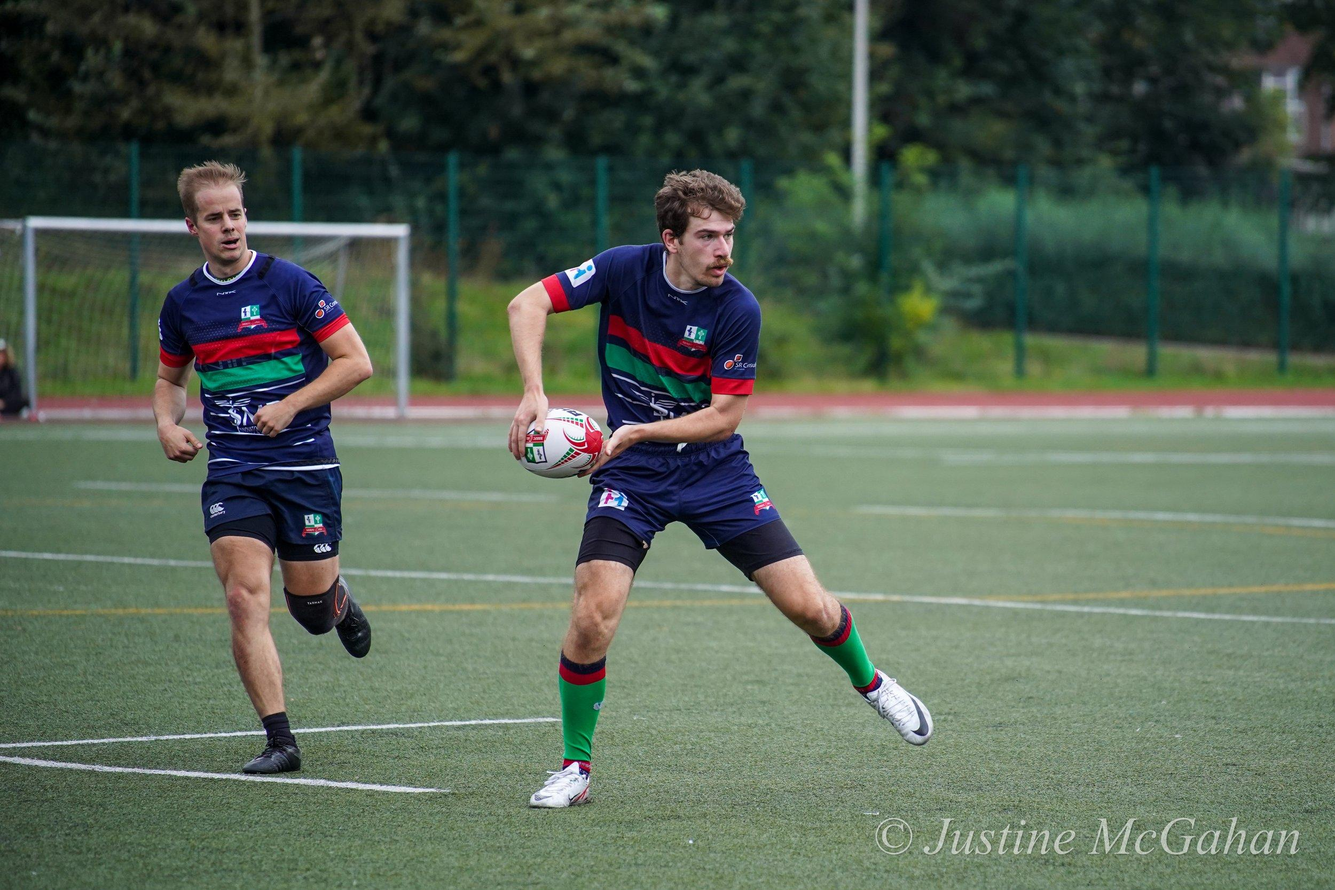ballon_rugby: (511, 406, 610, 482)
